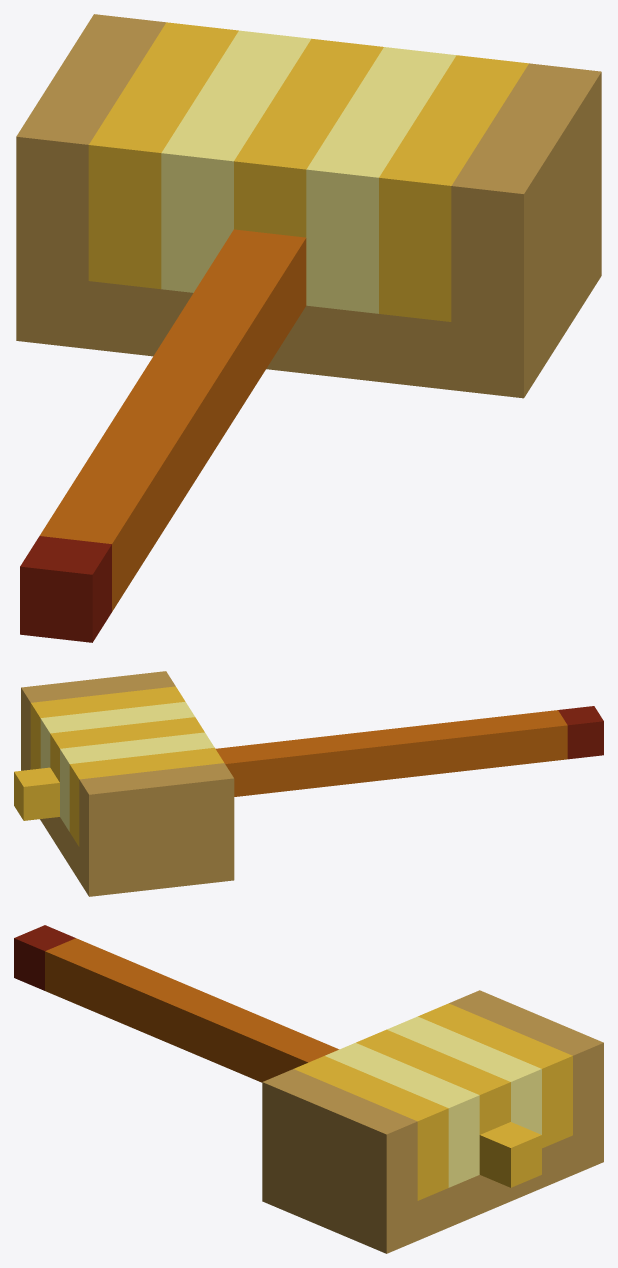
File: item_WAR_HAMMER.glb
3 views of the same model, one above another, from view 1: azimuth 30°, elevation 25°; view 2: azimuth 150°, elevation 25°; view 3: azimuth 270°, elevation 25° (orthographic). The views are drawn at different scales.
Visible parts, largest first — view 1: item_WAR_HAMMER; view 2: item_WAR_HAMMER; view 3: item_WAR_HAMMER.
Part boxes in pixels (x1,y1,x2,y2): item_WAR_HAMMER: (16, 14, 601, 642); item_WAR_HAMMER: (14, 671, 603, 896); item_WAR_HAMMER: (14, 925, 603, 1253).
Bounding box in the file's own units: 0.6107 × 0.1364 × 0.6107.
Materials: 1 (1 with a texture image).
